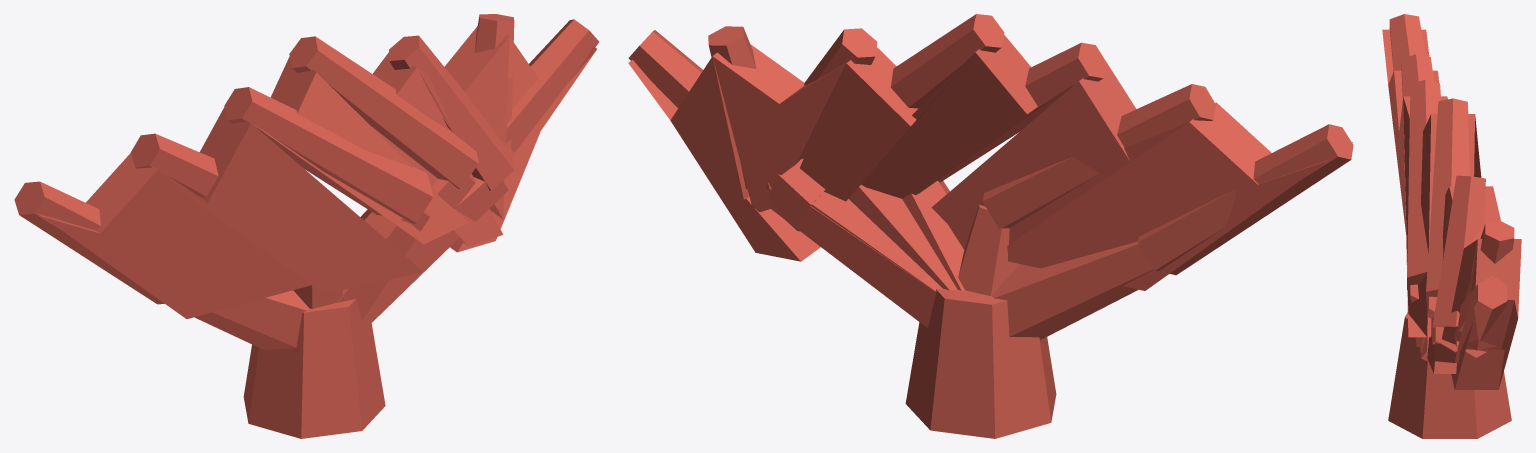
File: coral_004b_fan.glb
3 views of the same model, side by side, from view 1: azimuth 30°, elevation 25°; view 2: azimuth 150°, elevation 25°; view 3: azimuth 270°, elevation 25° (orthographic). The views are drawn at different scales.
Parts seen in each view (by area): view 1: coral_004b_fan__mesh; view 2: coral_004b_fan__mesh; view 3: coral_004b_fan__mesh.
Part boxes in pixels (bbox=[...]): coral_004b_fan__mesh: bbox=[14, 14, 598, 438]; coral_004b_fan__mesh: bbox=[628, 14, 1353, 438]; coral_004b_fan__mesh: bbox=[1382, 14, 1521, 438].
Size of the model in its own units: 1.43 by 0.8061 by 0.3198.
